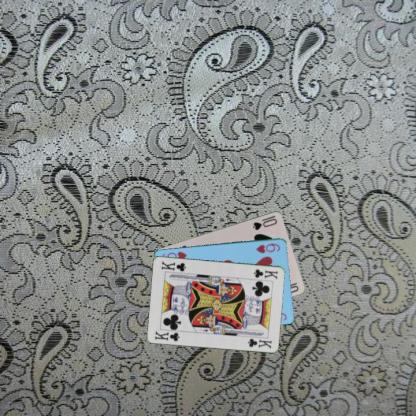10s: (250, 213, 279, 231)
6h: (254, 240, 282, 255)
Kc: (152, 328, 181, 342), (251, 266, 278, 281)
